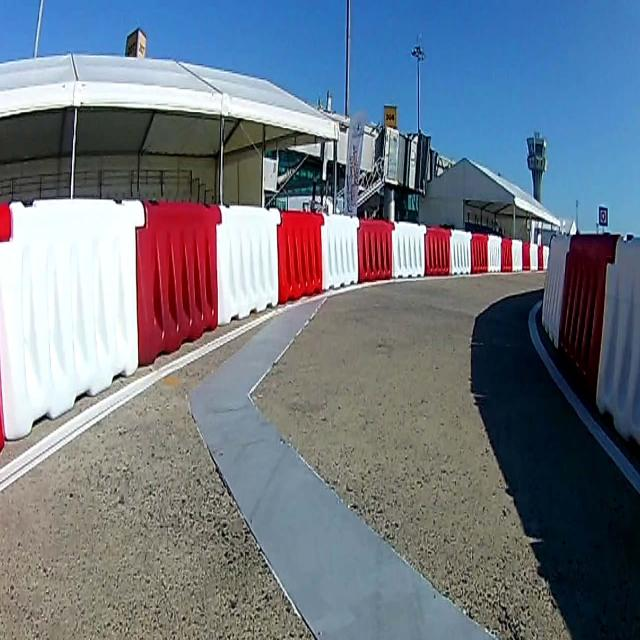durak: (599, 206, 607, 224)
